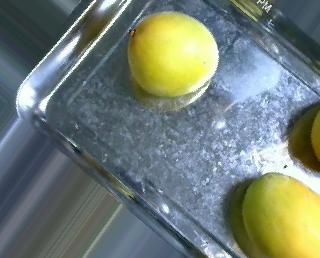Mango: (127, 9, 224, 102), (236, 169, 318, 255)
